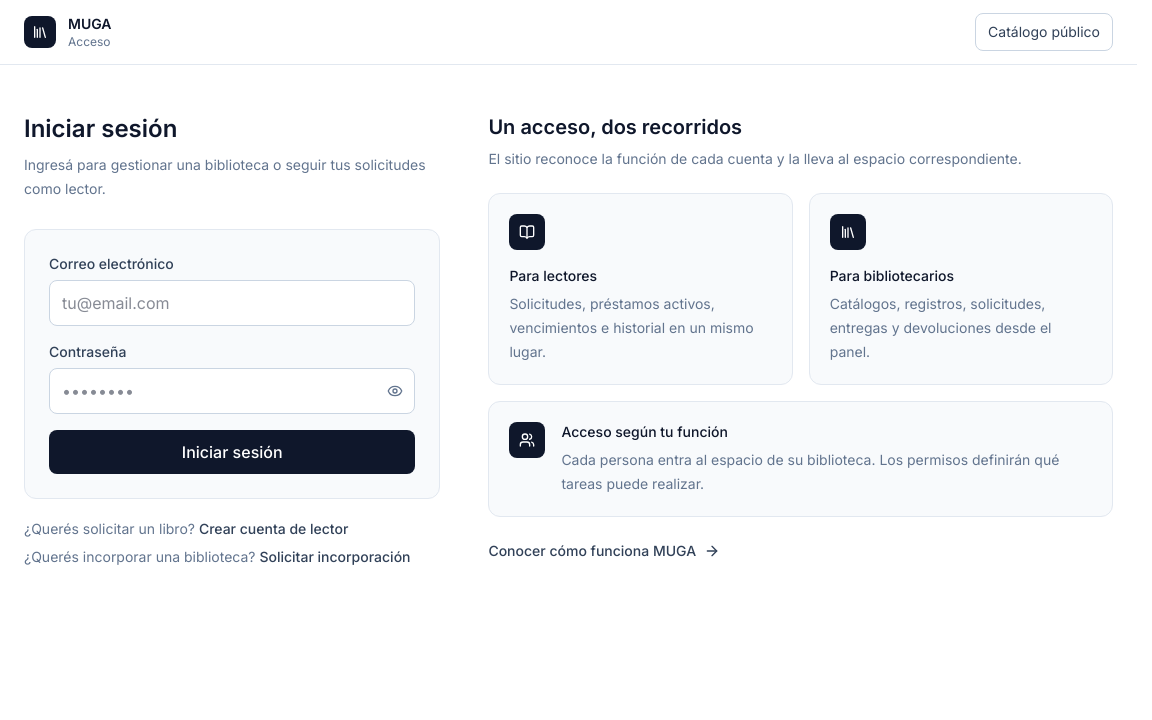
Test: IniciarSesionPage › should show loading state during login
Type "test@example.com" into the field labelled "Correo electrónico" at (232, 303), box [49,280,415,326]
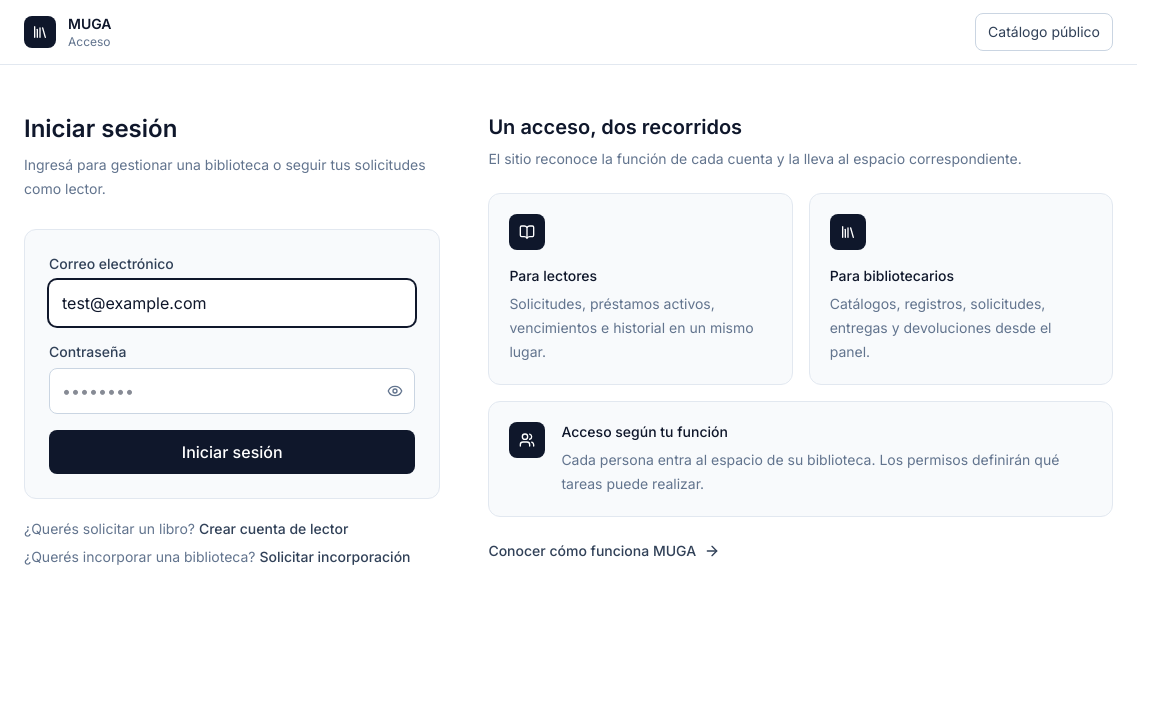
Type "password123" into the password field labelled "Contraseña" at (232, 391), box [49,368,415,414]
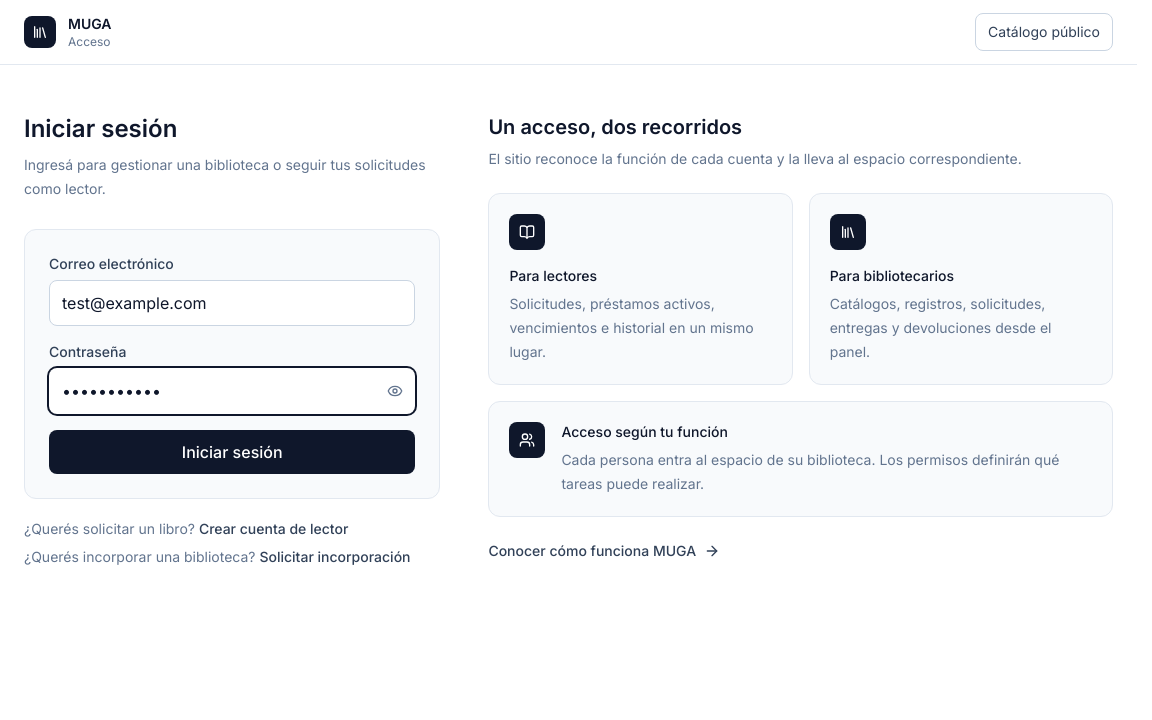
Click the button "Iniciar sesión" at (232, 452), box [49,430,415,474]
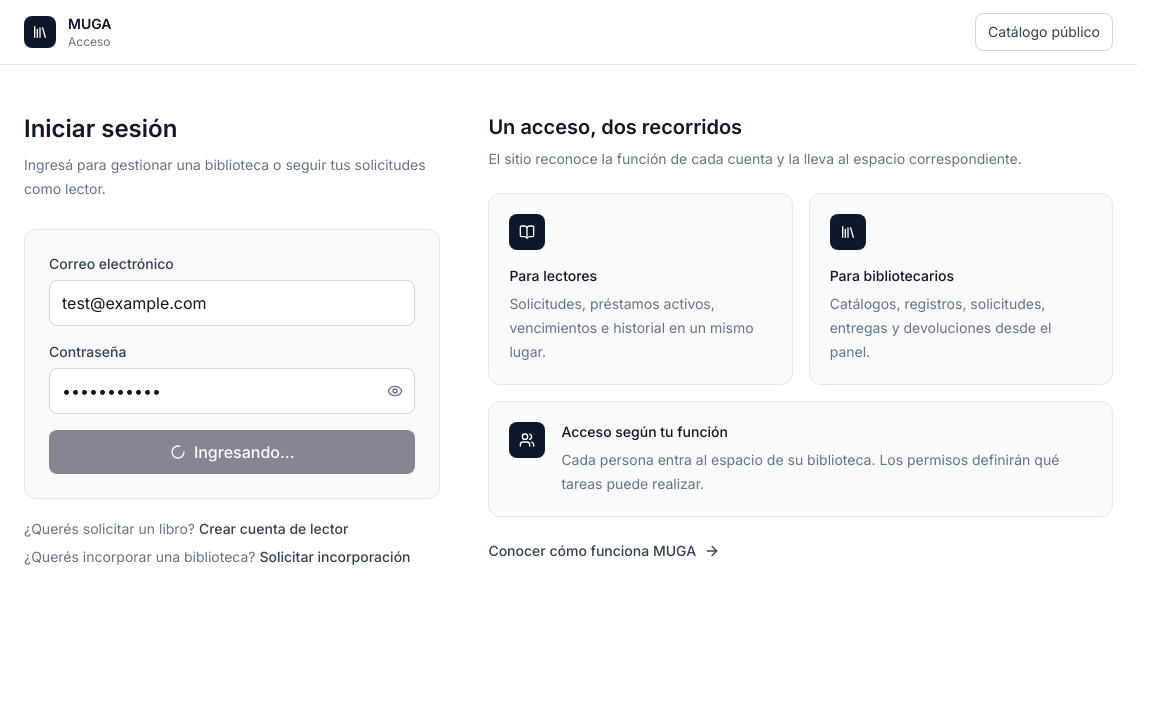
Check: the button "Ingresando..." is disabled, box [49,430,415,474]
